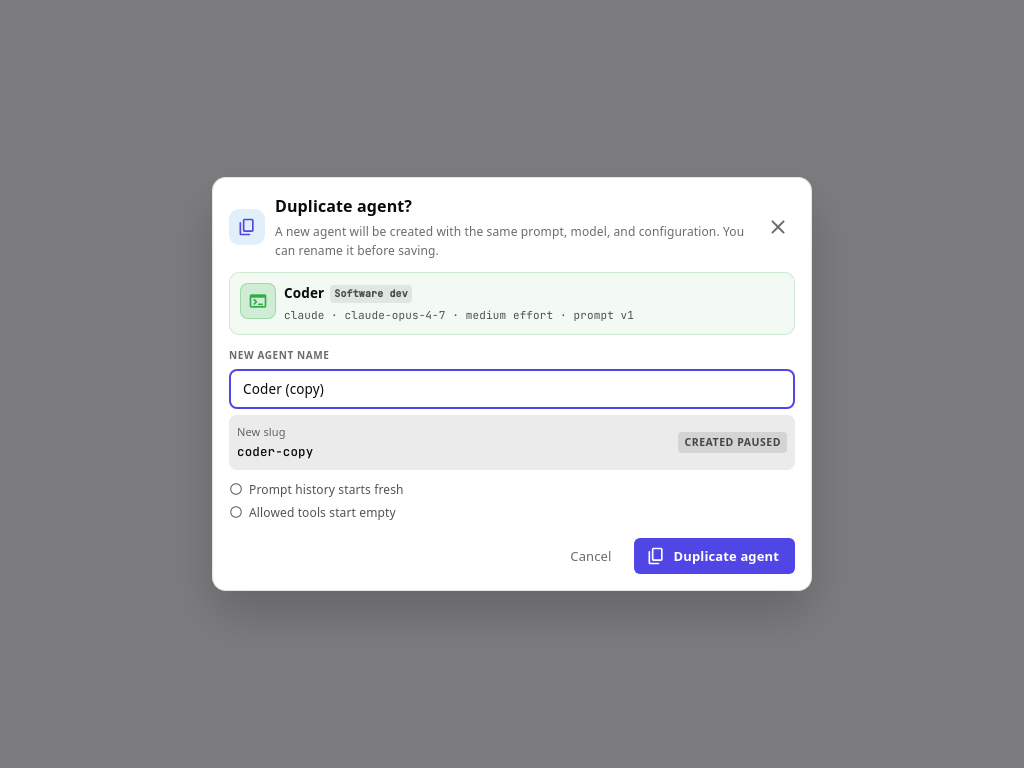
it: DuplicateAgentModal › shows "Duplicate failed" heading on error POST
The width and height of the screenshot is (1024, 768).
Click the button "Duplicate agent".
click(714, 556)  # box x1=634 y1=538 x2=795 y2=574
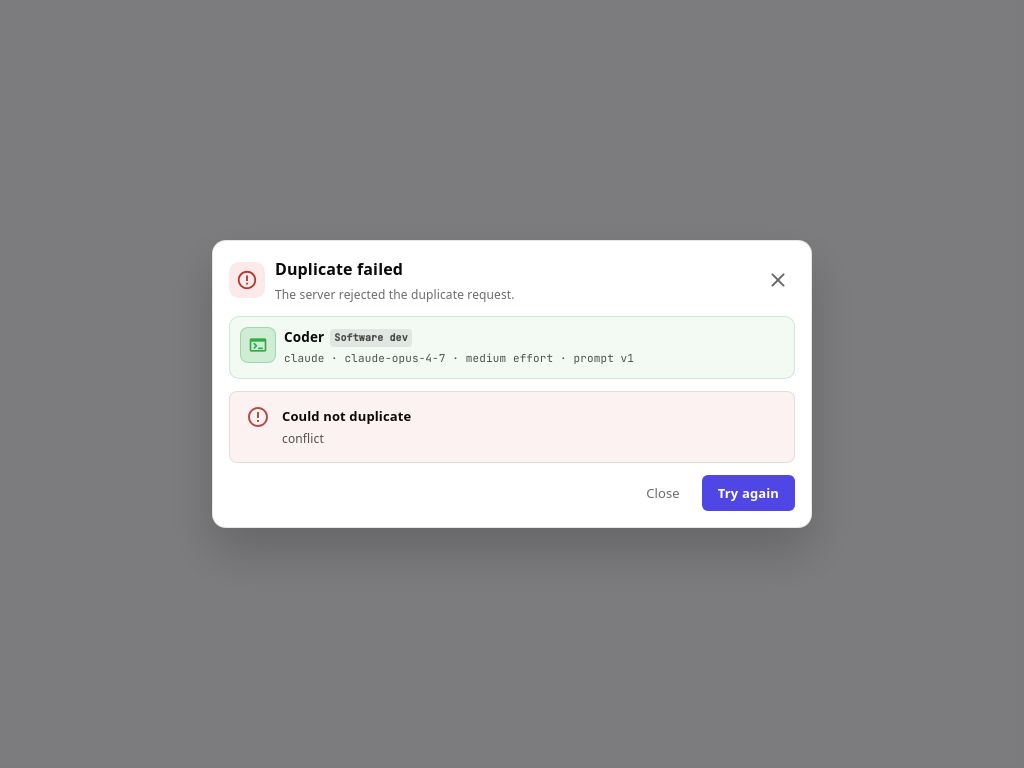
Now the text "Duplicate failed" is shown, box x1=275 y1=258 x2=403 y2=280
